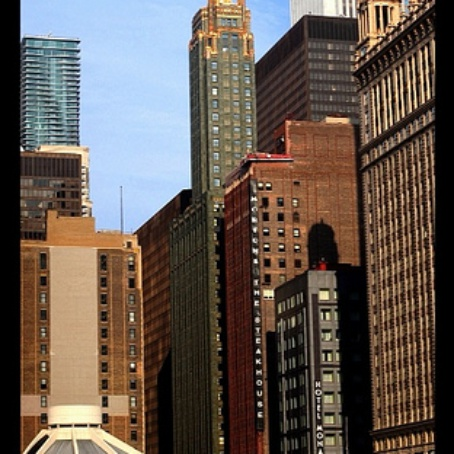building: (223, 133, 380, 454), (360, 39, 454, 454), (1, 231, 154, 454), (179, 1, 254, 454), (279, 270, 359, 454), (135, 198, 191, 453), (252, 26, 368, 131), (13, 33, 88, 149), (16, 149, 87, 240)
sky: (76, 1, 189, 192)
